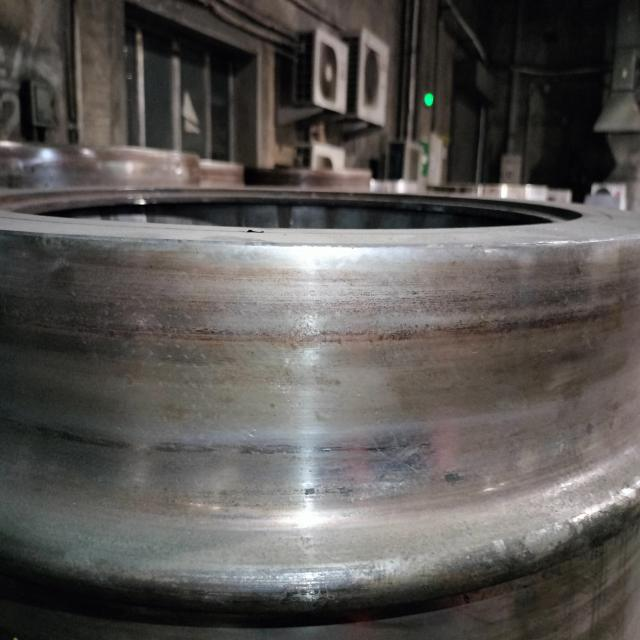flat: (291, 423, 457, 504)
